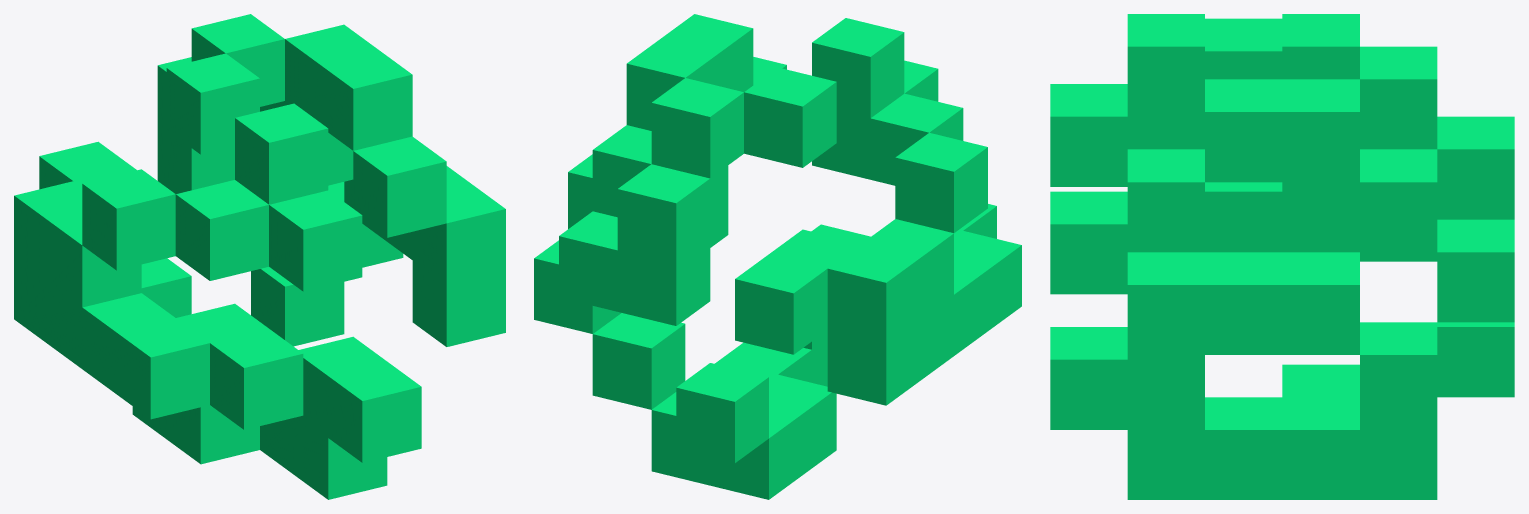
The model's file is luz-6b.obj.
3 renders of one model, left to right at view 1: azimuth 30°, elevation 25°; view 2: azimuth 150°, elevation 25°; view 3: azimuth 270°, elevation 25°, orthographic. The views are drawn at different scales.
Bounding box in the file's own units: 0.6 × 0.6 × 0.6.
Materials: 1 (1 with a texture image).
